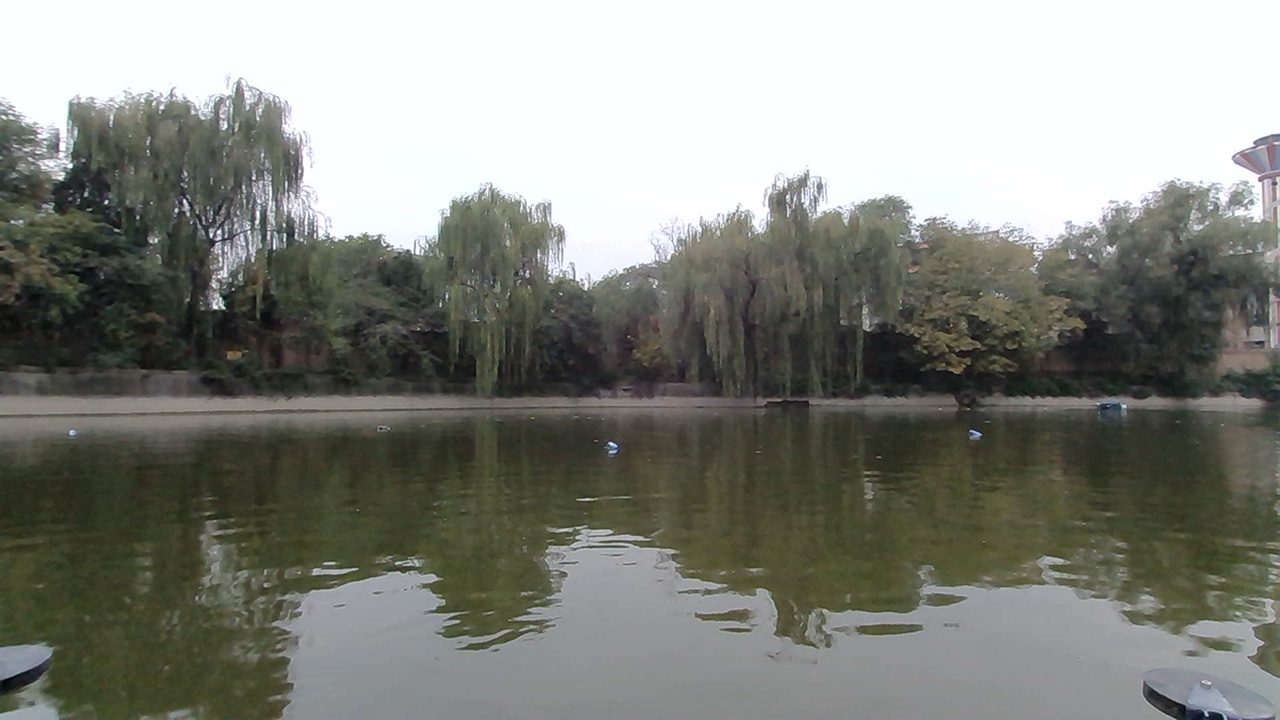bottle: (587, 432, 632, 459), (64, 415, 100, 447), (374, 414, 407, 437), (957, 419, 988, 443)
